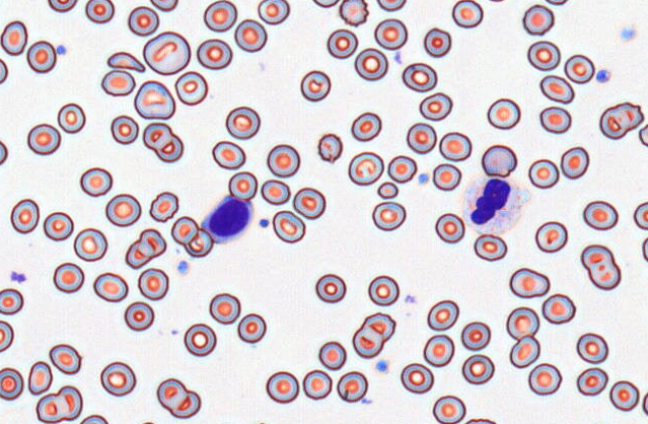GRAN: (464, 174, 528, 233)
LYM: (202, 192, 255, 244)
PLT: (619, 24, 639, 43), (176, 260, 192, 276), (596, 68, 612, 84), (375, 359, 391, 374), (55, 44, 68, 56), (419, 172, 430, 184), (259, 218, 269, 229)
RBC: (142, 30, 191, 75), (352, 312, 395, 358), (580, 244, 621, 290), (35, 384, 83, 423), (156, 377, 201, 418), (124, 228, 166, 269), (599, 101, 644, 139), (142, 121, 183, 162), (133, 80, 175, 119), (509, 267, 550, 298), (100, 361, 136, 396), (348, 151, 384, 185), (225, 105, 260, 139), (174, 70, 208, 105), (481, 144, 517, 177), (105, 193, 141, 226), (505, 306, 539, 340), (73, 227, 107, 261), (266, 143, 300, 177), (234, 18, 267, 52), (528, 362, 562, 395), (183, 322, 216, 356), (354, 47, 388, 80), (196, 38, 232, 69), (272, 210, 305, 243), (292, 186, 325, 219), (534, 220, 567, 253), (203, 0, 237, 32), (486, 97, 520, 129), (265, 371, 299, 403), (27, 123, 61, 155), (401, 62, 437, 92), (582, 200, 618, 230), (400, 362, 433, 394), (374, 18, 407, 50), (509, 334, 540, 368), (541, 293, 575, 324), (93, 272, 128, 302), (371, 201, 406, 231), (427, 299, 459, 331), (423, 334, 454, 367), (137, 267, 168, 300), (527, 40, 560, 71), (539, 74, 574, 103), (10, 198, 39, 233), (336, 371, 368, 402), (326, 28, 358, 59), (127, 5, 159, 36), (367, 275, 399, 306), (209, 292, 240, 324), (49, 343, 81, 374), (576, 332, 608, 363), (522, 4, 554, 35), (26, 40, 56, 73), (438, 131, 471, 161), (461, 354, 494, 384), (211, 140, 245, 169), (528, 158, 559, 189), (53, 262, 84, 293), (300, 70, 331, 101), (406, 122, 436, 154), (419, 92, 452, 121), (560, 146, 589, 179), (79, 167, 112, 196), (432, 395, 466, 423), (473, 233, 507, 261), (0, 20, 27, 55), (149, 191, 179, 222), (302, 369, 332, 400), (435, 212, 465, 243), (609, 380, 639, 411), (315, 273, 346, 303), (350, 111, 381, 141), (576, 367, 608, 396), (101, 69, 135, 96), (27, 360, 53, 395), (43, 211, 73, 241), (124, 301, 154, 331), (237, 312, 266, 343), (564, 54, 595, 83), (451, 0, 483, 28), (184, 227, 213, 257), (170, 215, 199, 245), (110, 114, 139, 144), (228, 171, 257, 201), (460, 321, 490, 350), (57, 102, 85, 133), (539, 106, 571, 133), (387, 155, 417, 183), (318, 340, 346, 370), (423, 27, 451, 57), (257, 0, 289, 25), (0, 367, 24, 400), (432, 163, 461, 190), (339, 0, 369, 26), (260, 179, 290, 205), (317, 132, 342, 162), (85, 0, 114, 23), (0, 287, 23, 315), (0, 319, 14, 352), (633, 201, 647, 230), (377, 181, 398, 199), (47, 0, 78, 12), (376, 0, 406, 11), (150, 0, 178, 11), (79, 414, 108, 423), (638, 122, 648, 146), (464, 417, 497, 424), (0, 57, 8, 84), (312, 0, 339, 8), (0, 139, 8, 165), (642, 236, 648, 262), (642, 391, 648, 416), (544, 0, 568, 5), (249, 421, 277, 424), (485, 0, 507, 2)
Schistocyte: (107, 50, 146, 74)
